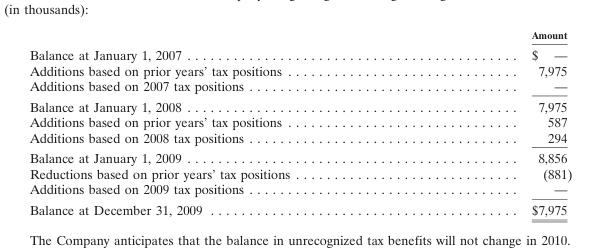table: (28, 28, 571, 217)
table column: (28, 28, 410, 217), (410, 28, 571, 217)
table column header: (28, 28, 571, 43)
table row: (28, 43, 571, 62), (28, 77, 571, 95), (28, 95, 571, 113), (28, 129, 571, 147), (28, 147, 571, 165), (28, 181, 571, 199), (28, 199, 571, 217), (28, 113, 571, 129), (28, 165, 571, 181), (28, 28, 571, 43), (28, 62, 571, 77)
